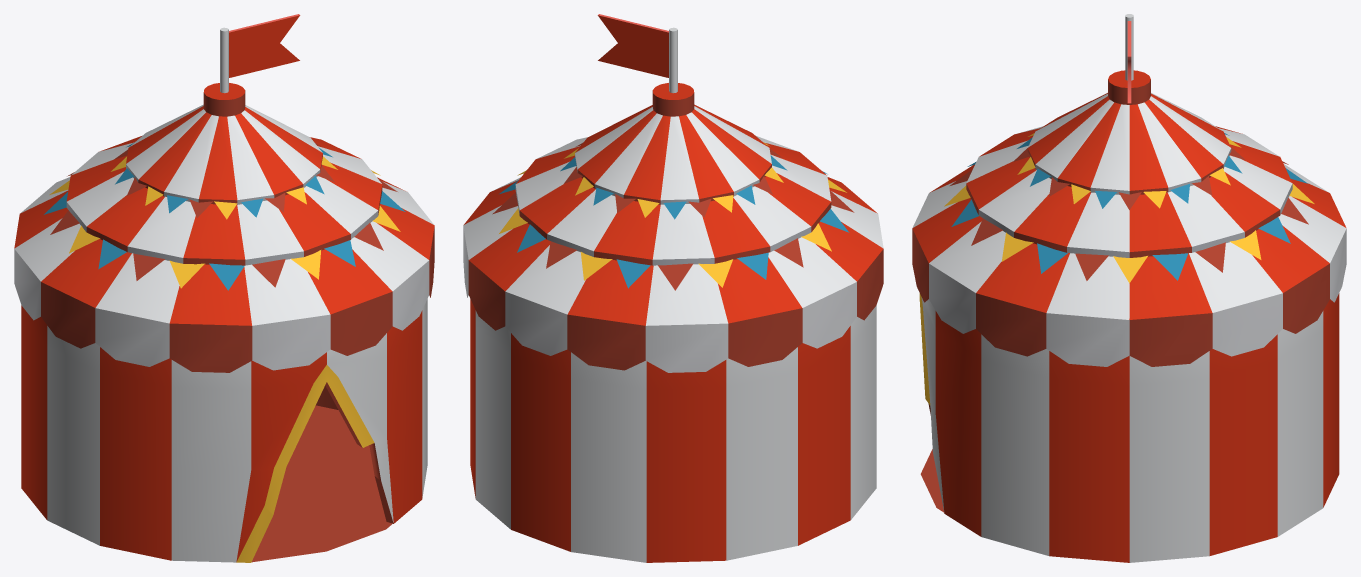
File: CIRCUS.fbx
The picture shows the model from 3 angles, left to right: view 1: azimuth 30°, elevation 25°; view 2: azimuth 150°, elevation 25°; view 3: azimuth 270°, elevation 25°; orthographic projection. The views are drawn at different scales.
Parts seen in each view (by area): view 1: circus; view 2: circus; view 3: circus.
Boxes of the visible parts, <box> form: circus: <box>14,14,434,562</box>; circus: <box>463,14,883,562</box>; circus: <box>912,14,1346,562</box>.
Size of the model in its own units: 382 by 445 by 382.
Materials: 1 (1 with a texture image).
